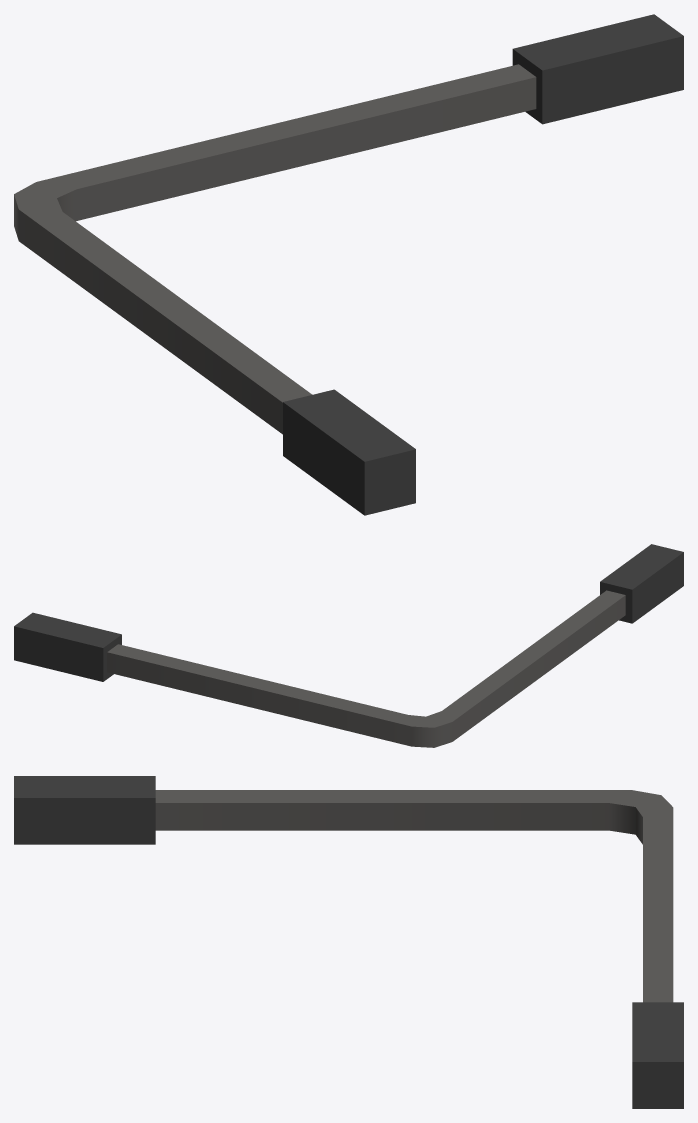
File: Cable_A_2_3.fbx
3 views of the same model, one above another, from view 1: azimuth 30°, elevation 25°; view 2: azimuth 150°, elevation 25°; view 3: azimuth 270°, elevation 25° (orthographic). The views are drawn at different scales.
Parts seen in each view (by area): view 1: Cable_A_2_3; view 2: Cable_A_2_3; view 3: Cable_A_2_3.
Boxes of the visible parts, x1=… form: Cable_A_2_3: x1=14, y1=14, x2=683, y2=515; Cable_A_2_3: x1=14, y1=544, x2=683, y2=747; Cable_A_2_3: x1=14, y1=776, x2=683, y2=1108.
Bounding box in the file's own units: 129 × 9.83 × 128.
